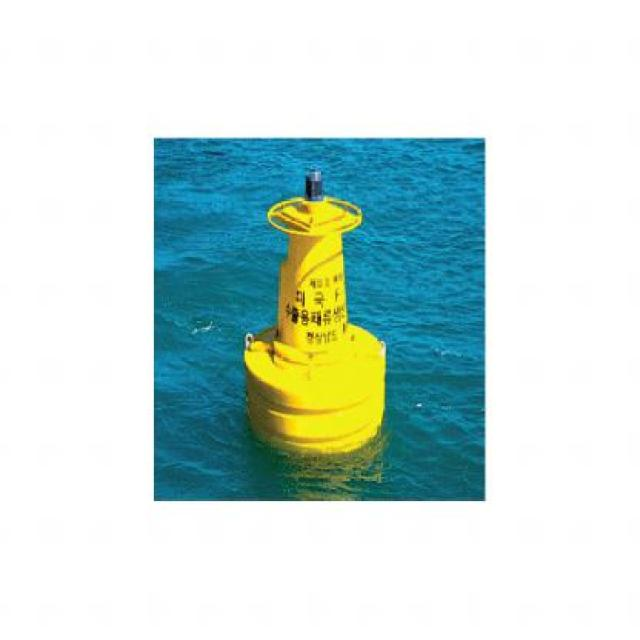a: (235, 161, 404, 469)
